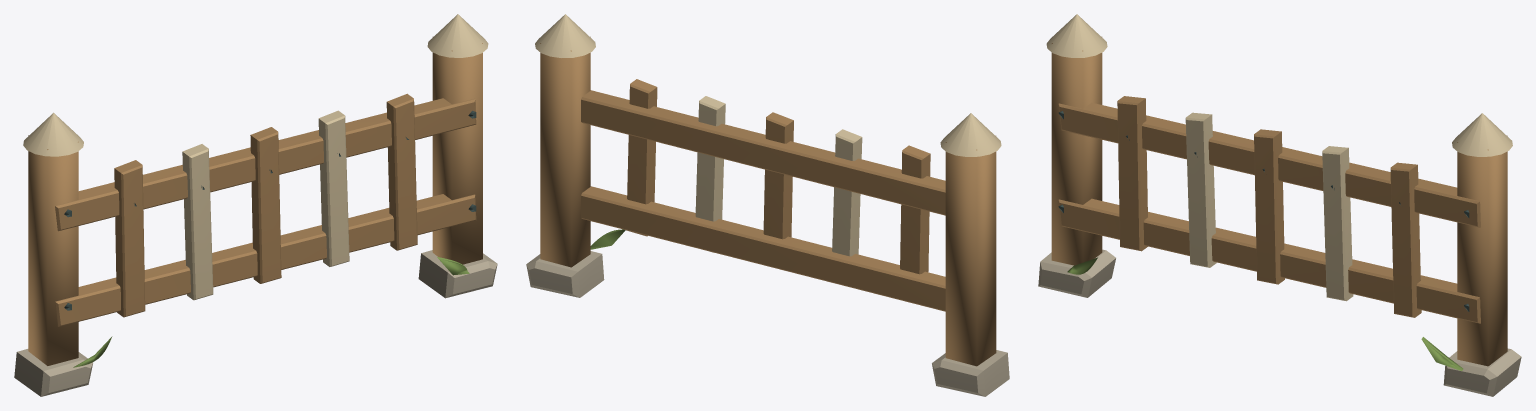
File: cerca_lod.glb
3 renders of one model, left to right at view 1: azimuth 30°, elevation 25°; view 2: azimuth 150°, elevation 25°; view 3: azimuth 330°, elevation 25°, orthographic.
Parts seen in each view (by area): view 1: cerca; view 2: cerca; view 3: cerca.
Boxes of the visible parts, left/top/right/bottom form: cerca: left=14, top=14, right=497, bottom=396; cerca: left=526, top=14, right=1009, bottom=396; cerca: left=1038, top=14, right=1521, bottom=396.
Size of the model in its own units: 2.16 by 1.21 by 0.3115.
